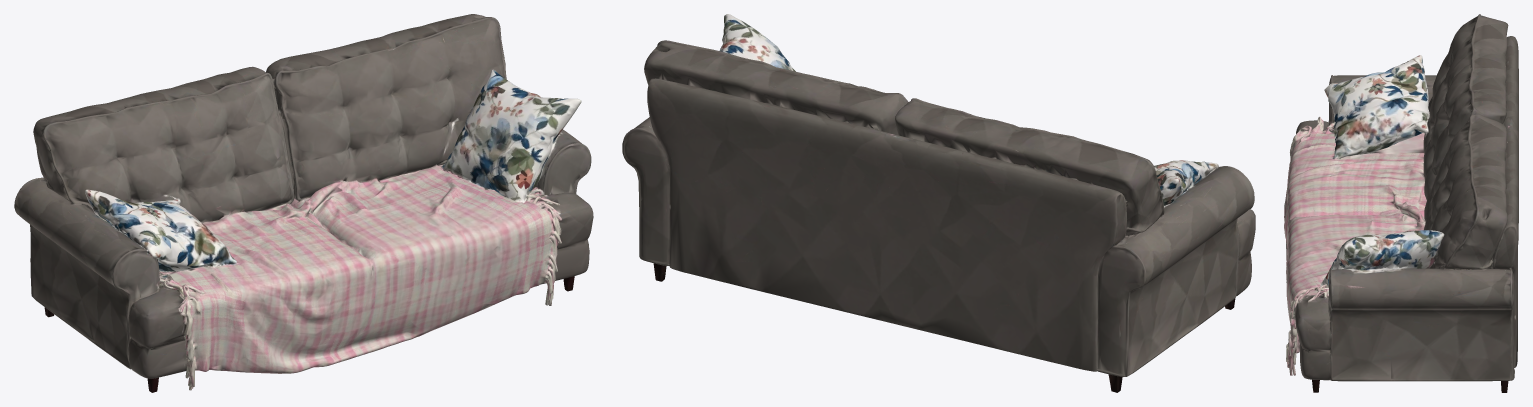
The model's file is sofa.glb.
3 views of the same model, side by side, from view 1: azimuth 30°, elevation 25°; view 2: azimuth 150°, elevation 25°; view 3: azimuth 270°, elevation 25° (orthographic). The views are drawn at different scales.
Bounding box in the file's own units: 2 × 0.8344 × 0.9331.
Materials: 1 (1 with a texture image).
